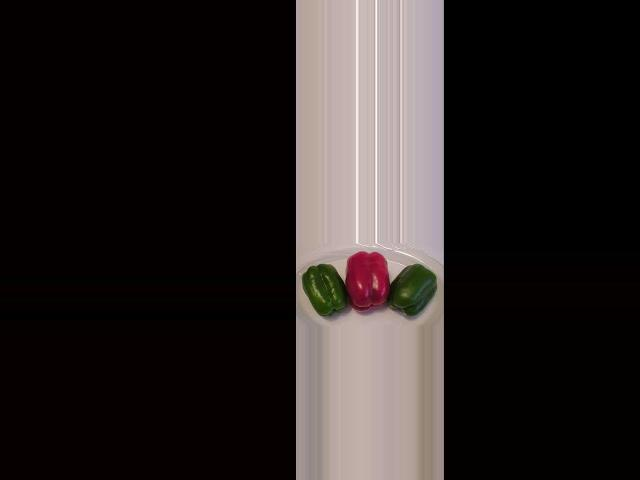bell_pepper: (387, 257, 439, 321)
